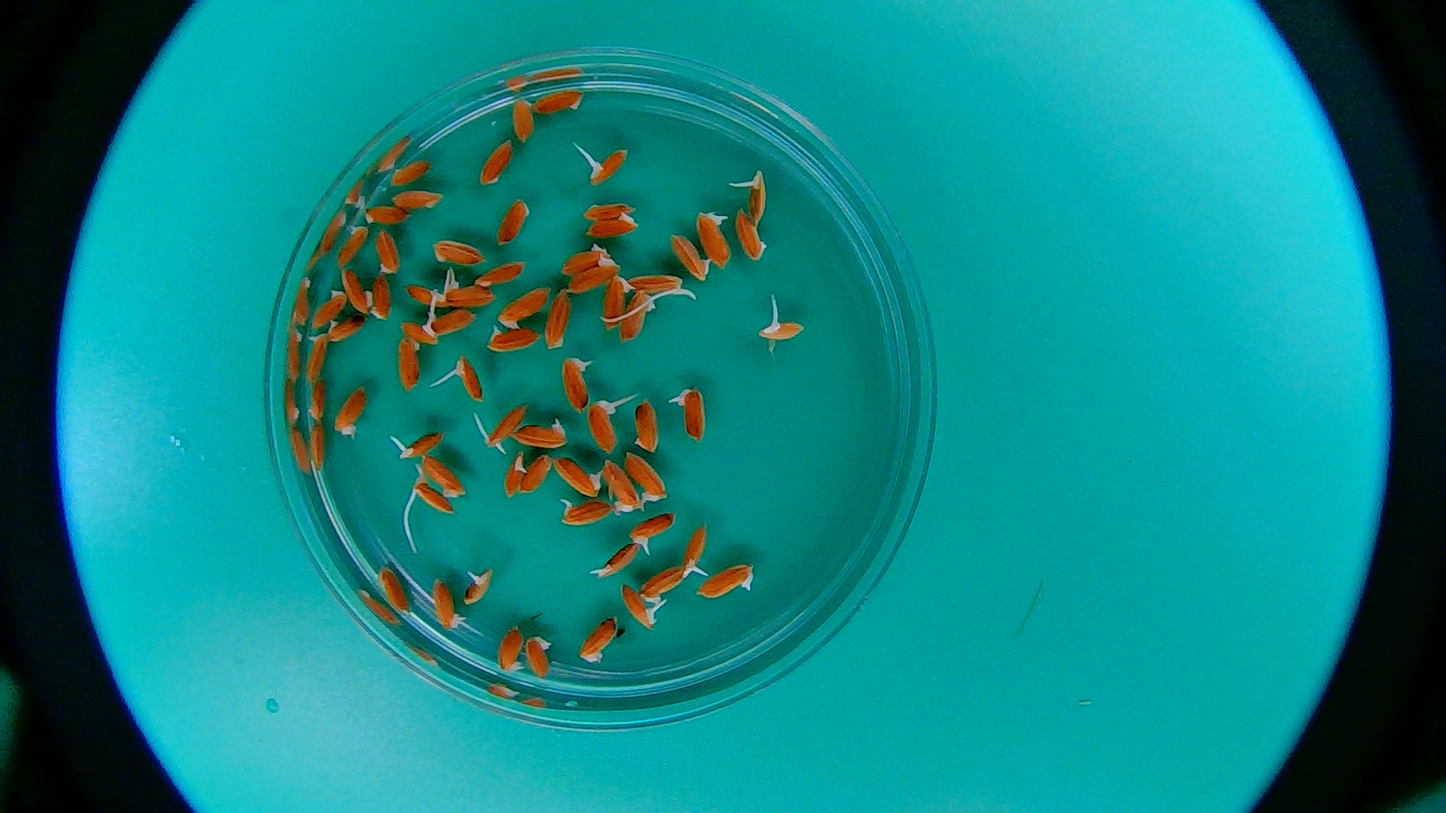no: (418, 449, 469, 501), (493, 285, 551, 329), (563, 256, 624, 297), (576, 611, 622, 665), (331, 385, 375, 440), (599, 268, 636, 333), (668, 232, 715, 282), (375, 561, 414, 618), (734, 205, 771, 263), (696, 563, 756, 598), (620, 289, 658, 344), (632, 392, 664, 456), (467, 257, 527, 290), (541, 287, 571, 353), (427, 233, 487, 265), (638, 567, 691, 603), (558, 243, 611, 278), (496, 196, 532, 247), (305, 287, 347, 330), (338, 265, 374, 315), (334, 221, 371, 269), (484, 324, 541, 355), (395, 334, 423, 397), (503, 96, 537, 147), (530, 87, 582, 120), (477, 138, 511, 188), (518, 452, 555, 496), (582, 213, 642, 240), (581, 197, 640, 224), (388, 186, 447, 213), (386, 159, 435, 190), (524, 635, 557, 681), (372, 227, 401, 276), (323, 315, 370, 343), (367, 273, 392, 324), (356, 203, 412, 225), (307, 416, 328, 473), (304, 375, 328, 423)
yes: (623, 450, 670, 507), (548, 451, 602, 499), (694, 209, 734, 273), (600, 458, 641, 519), (429, 577, 468, 635), (584, 396, 622, 455), (615, 580, 660, 629), (508, 415, 569, 451), (554, 495, 612, 529), (560, 356, 594, 413), (584, 147, 631, 188), (458, 563, 498, 611), (480, 405, 525, 447), (492, 623, 525, 678), (450, 355, 486, 405), (627, 508, 674, 546), (681, 523, 712, 580), (443, 276, 496, 309), (741, 172, 770, 230), (302, 329, 331, 386), (397, 429, 444, 464), (593, 544, 641, 578), (627, 276, 687, 303), (499, 445, 526, 501), (398, 318, 442, 352), (410, 482, 454, 516), (678, 388, 706, 440), (428, 308, 477, 336), (758, 316, 805, 344), (404, 281, 449, 309)
